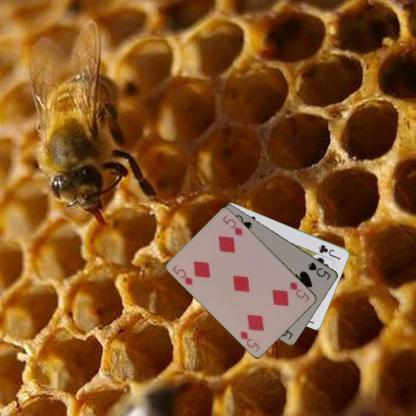5d: (170, 262, 194, 287), (287, 280, 311, 303)
5s: (306, 260, 332, 282)
Jc: (316, 242, 342, 261)
